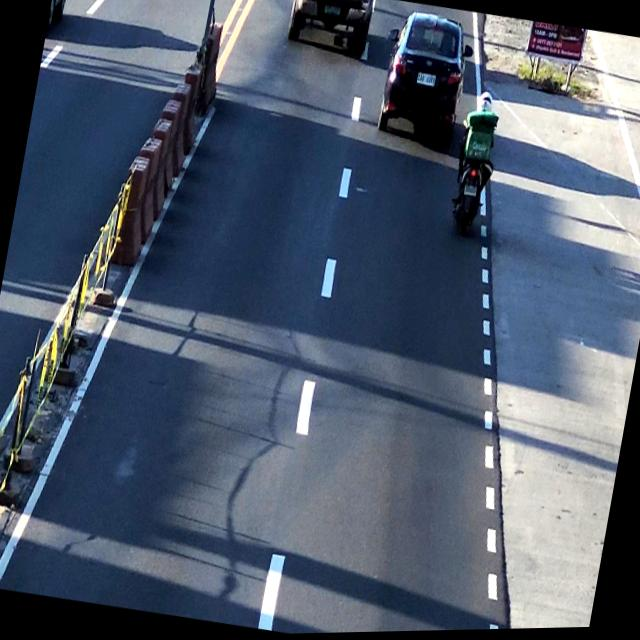Car: (372, 14, 472, 150), (282, 0, 376, 55)
License-Plate: (415, 71, 437, 90), (461, 183, 482, 202)
Motorcycle: (443, 89, 502, 239)
